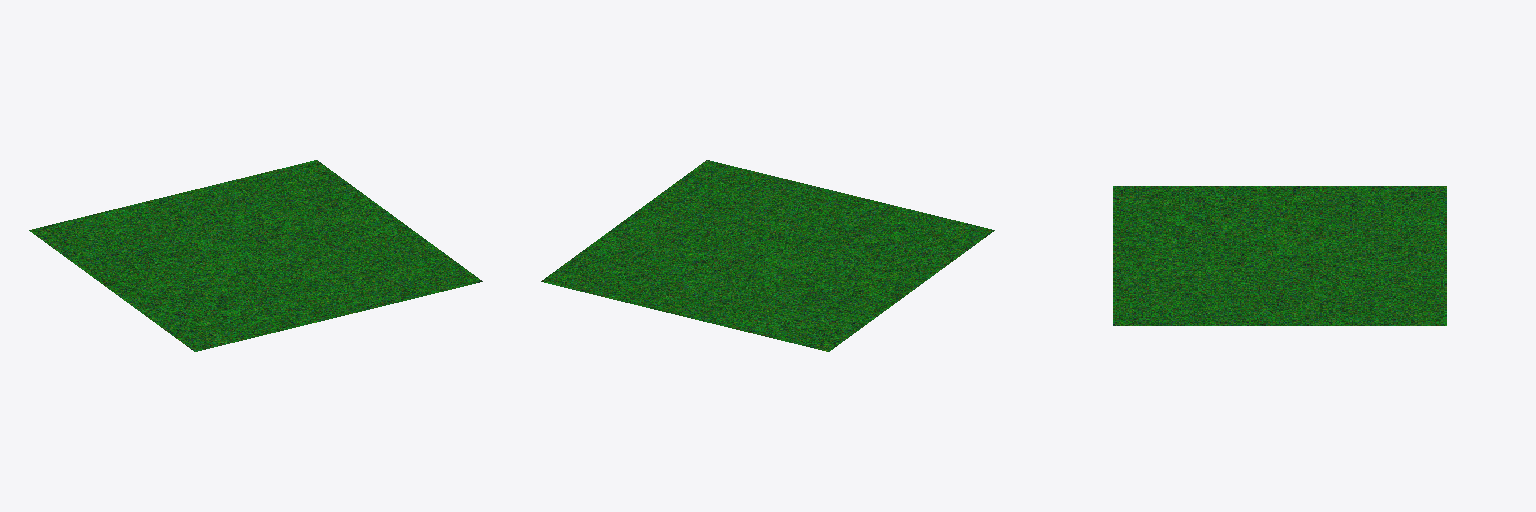
3 views of the same model, side by side, from view 1: azimuth 30°, elevation 25°; view 2: azimuth 150°, elevation 25°; view 3: azimuth 270°, elevation 25° (orthographic).
Parts seen in each view (by area): view 1: Mesh_1; view 2: Mesh_1; view 3: Mesh_1.
Boxes of the visible parts, x1,y1,x2,y2 form: Mesh_1: [29, 160, 482, 351]; Mesh_1: [541, 160, 994, 351]; Mesh_1: [1113, 186, 1446, 325].
Size of the model in its own units: 2 by 0 by 2.
1 materials, 1 textured.